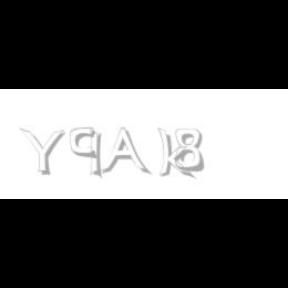8: (174, 128, 204, 172)
A: (100, 128, 148, 176)
I: (90, 128, 102, 180)
Y: (19, 128, 65, 176)
c: (70, 128, 98, 160)
k: (157, 128, 195, 180)
